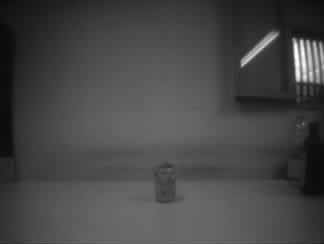Tin can: (154, 160, 175, 203)
